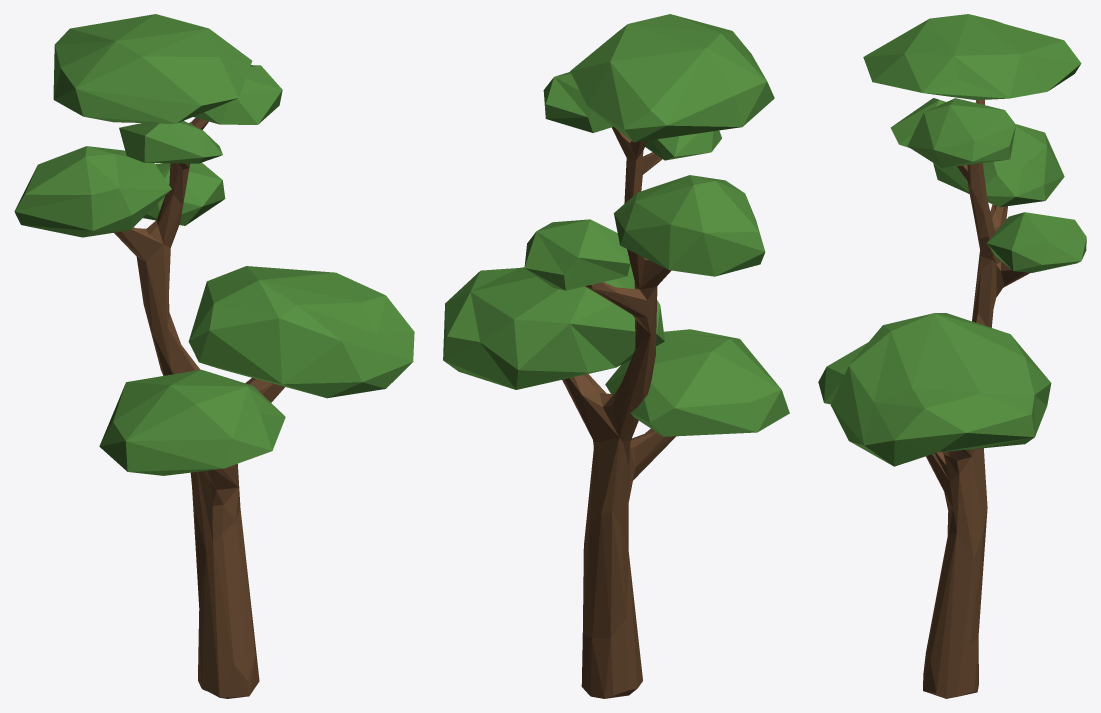
File: shaped-tree-open.glb
3 renders of one model, left to right at view 1: azimuth 30°, elevation 25°; view 2: azimuth 150°, elevation 25°; view 3: azimuth 270°, elevation 25°, orthographic. The views are drawn at different scales.
Parts seen in each view (by area): view 1: leaves_Icosphere, trunk_Cube; view 2: leaves_Icosphere, trunk_Cube; view 3: leaves_Icosphere, trunk_Cube.
Part boxes in pixels (x1,y1,x2,y2): leaves_Icosphere: (14, 14, 414, 475); trunk_Cube: (114, 118, 284, 698); leaves_Icosphere: (443, 14, 789, 436); trunk_Cube: (562, 126, 675, 698); leaves_Icosphere: (818, 14, 1086, 466); trunk_Cube: (923, 100, 1030, 698).
Bounding box in the file's own units: 4.75 × 8.9 × 3.45.
